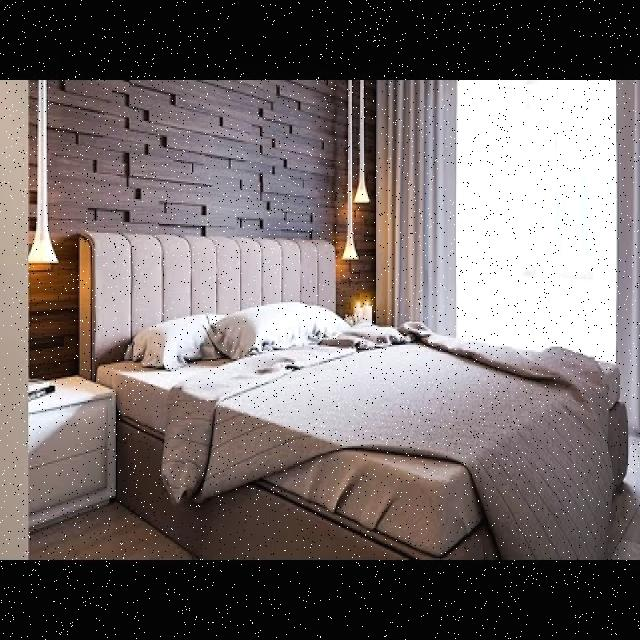bed: (78, 217, 612, 563)
